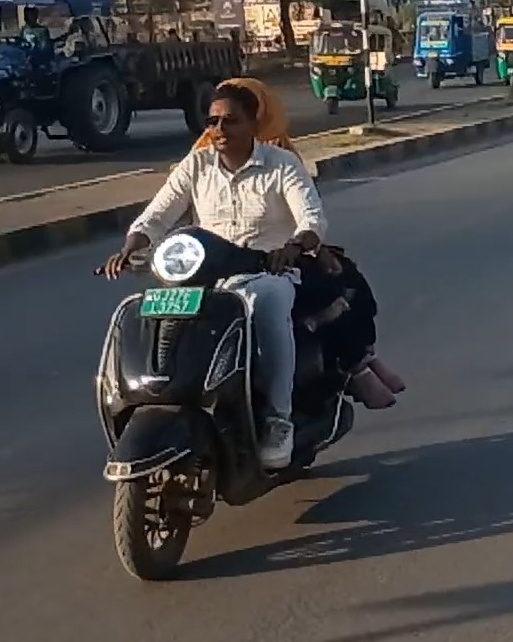BikeWithRider: (81, 69, 413, 589)
NoHelmet: (192, 80, 267, 162)
